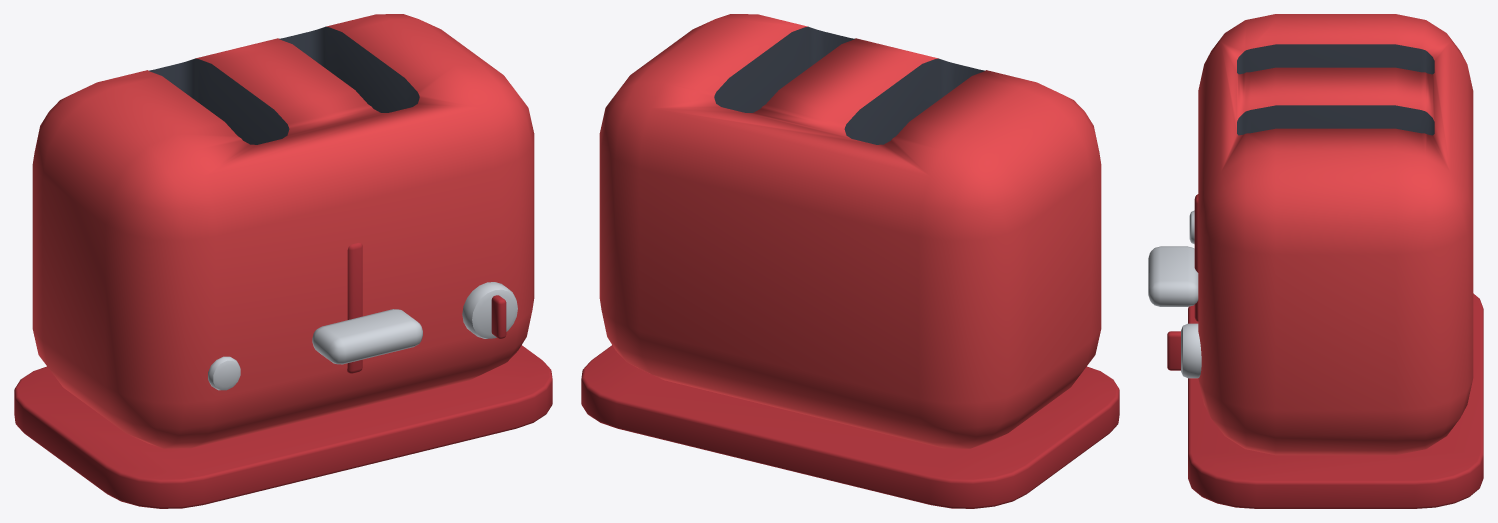
File: torradeira_vermelha.glb
3 renders of one model, left to right at view 1: azimuth 30°, elevation 25°; view 2: azimuth 150°, elevation 25°; view 3: azimuth 270°, elevation 25°, orthographic. The views are drawn at different scales.
Visible parts, largest first — view 1: torradeira_vermelha; view 2: torradeira_vermelha; view 3: torradeira_vermelha.
Boxes of the visible parts, x1=… form: torradeira_vermelha: x1=14, y1=14, x2=552, y2=508; torradeira_vermelha: x1=581, y1=14, x2=1119, y2=508; torradeira_vermelha: x1=1148, y1=14, x2=1483, y2=508.
Size of the model in its own units: 0.282 by 0.206 by 0.195.
Materials: 1 (1 with a texture image).
